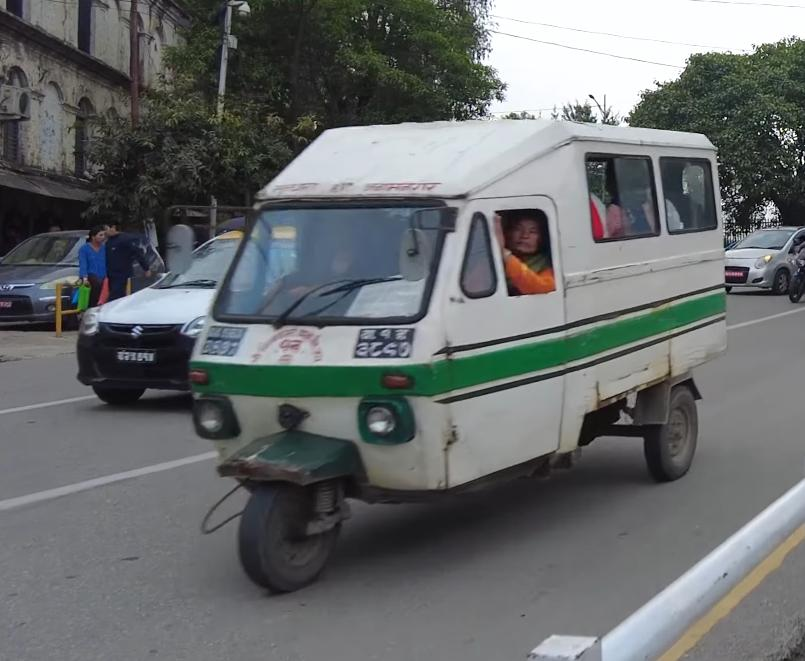car: (0, 219, 119, 328), (720, 216, 805, 297)
taxi: (75, 222, 317, 411)
tempo: (187, 105, 736, 620)
